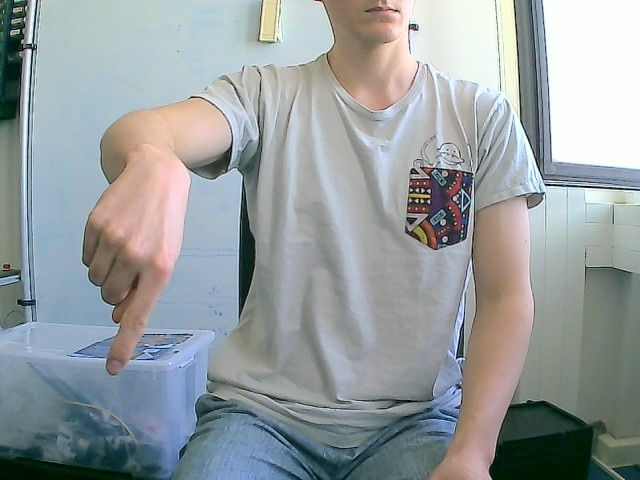down: (80, 145, 192, 376)
